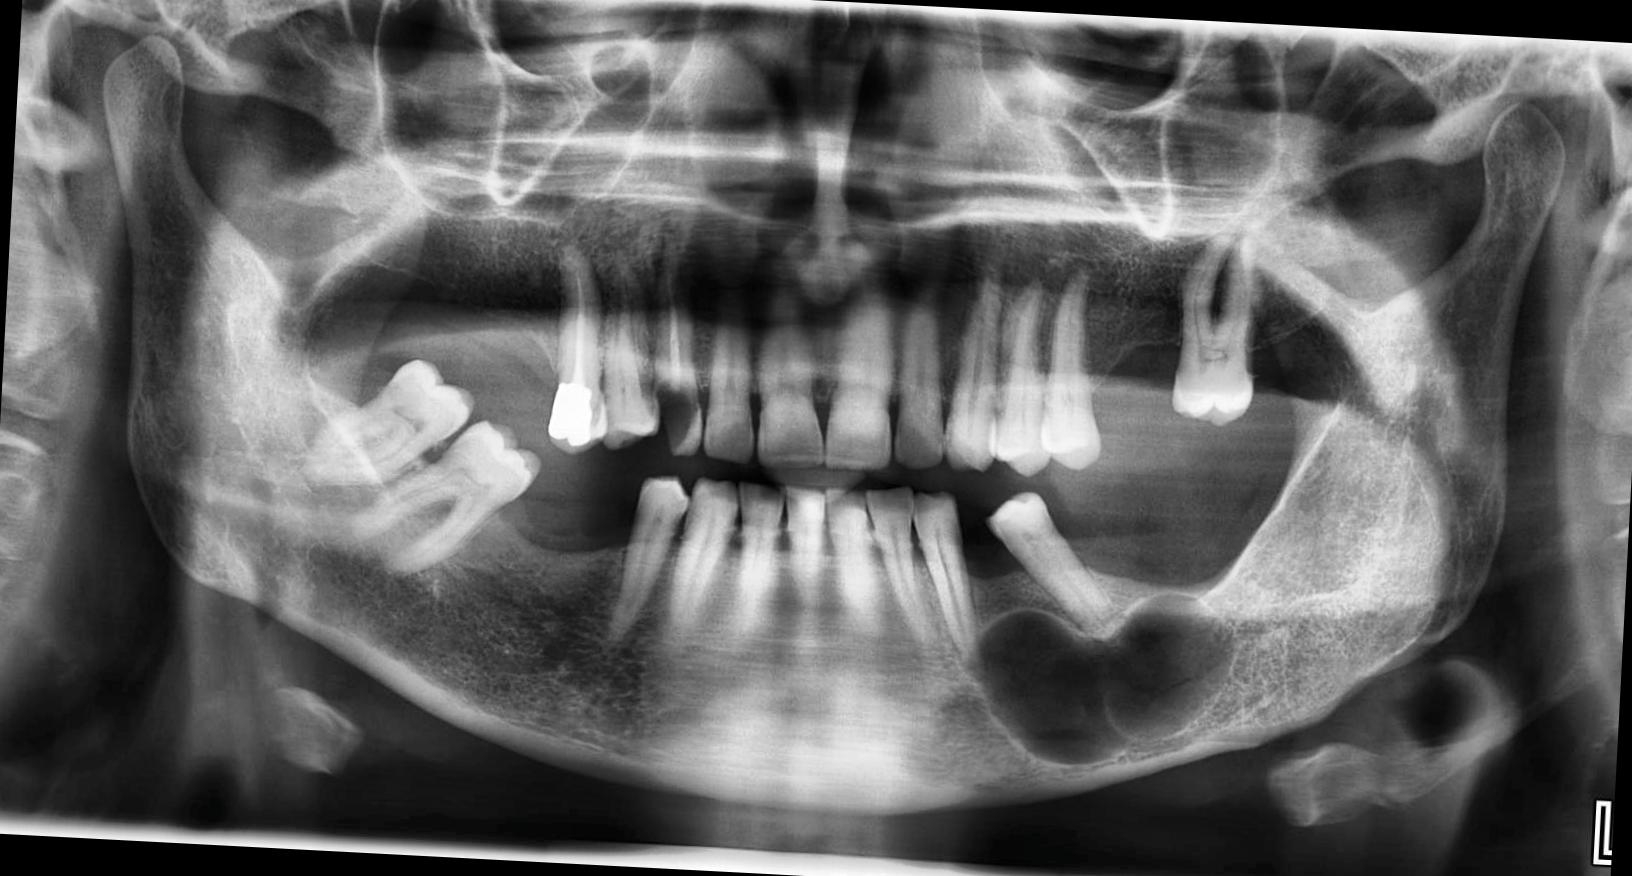okc: (951, 580, 1241, 778)
